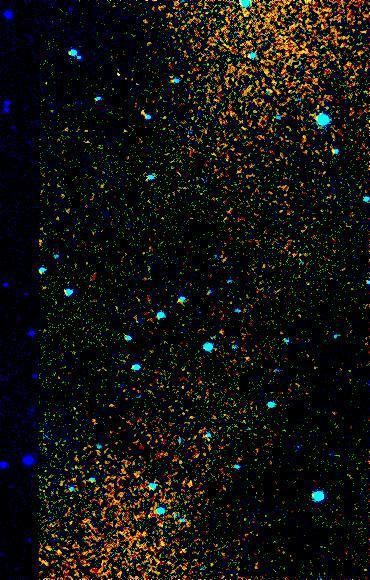star: (209, 313, 239, 343)
